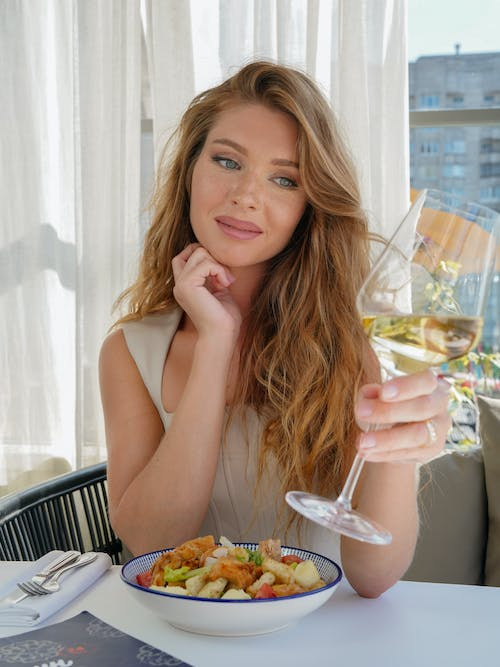alcohol: (283, 187, 500, 546)
